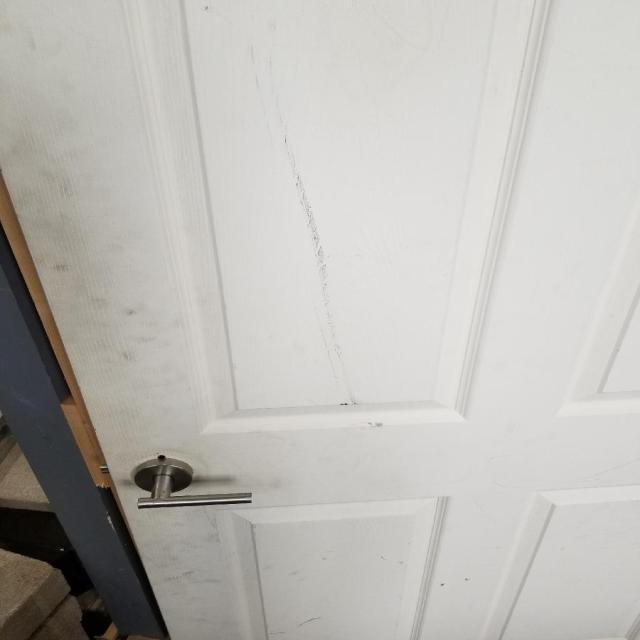door: (128, 454, 255, 512)
